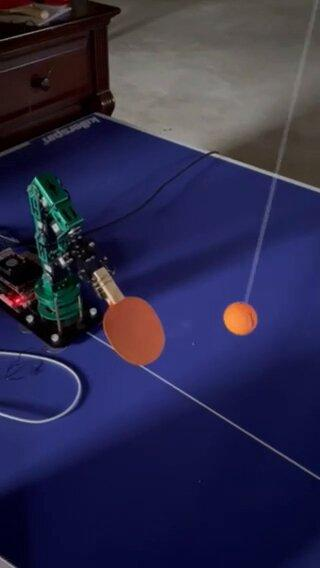oball: (224, 299, 262, 336)
